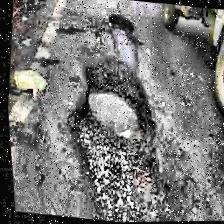pothole: (49, 53, 167, 223), (106, 12, 136, 34)
